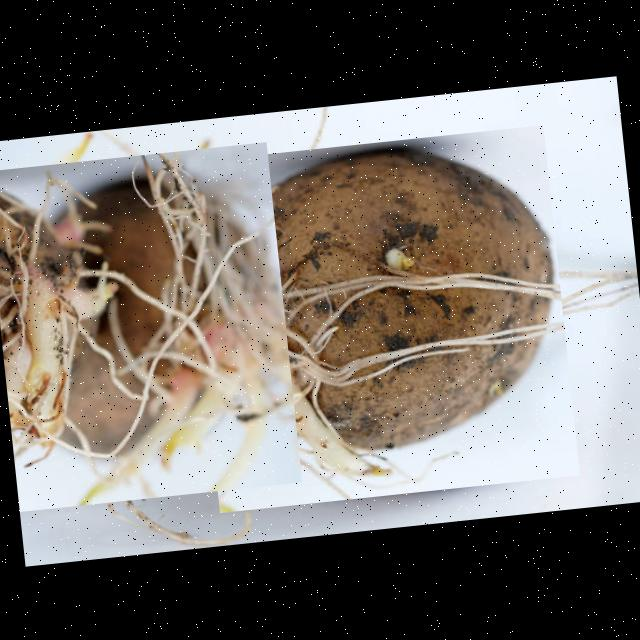Sprouted potato: (182, 124, 578, 512), (0, 140, 300, 511)
